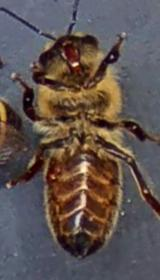varroa_mite: (39, 152, 68, 186)
